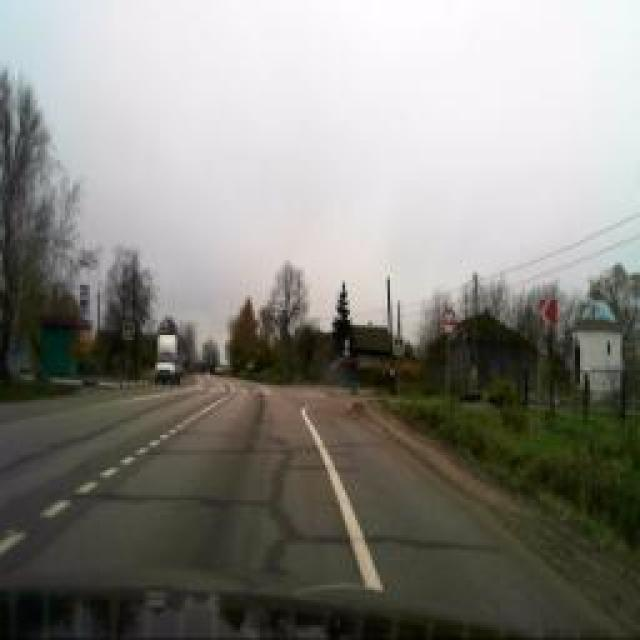sign: (442, 309, 456, 336)
